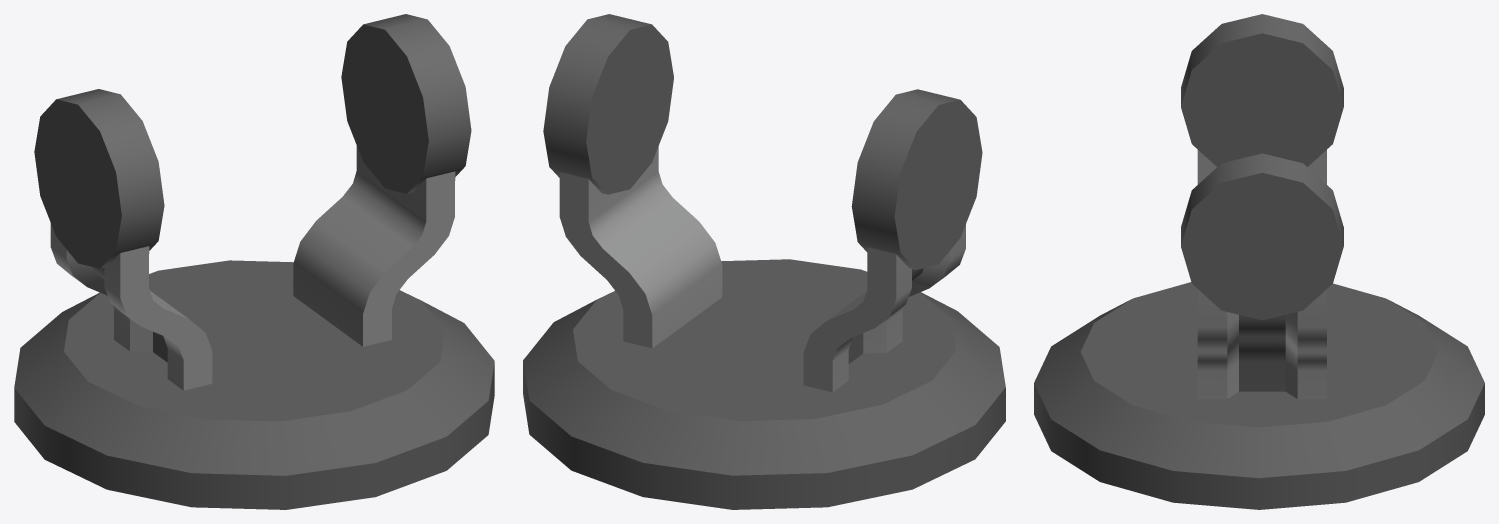
The model's file is Armchair_013.fbx.
3 views of the same model, side by side, from view 1: azimuth 30°, elevation 25°; view 2: azimuth 150°, elevation 25°; view 3: azimuth 270°, elevation 25° (orthographic). The views are drawn at different scales.
Parts seen in each view (by area): view 1: Armchair_013; view 2: Armchair_013; view 3: Armchair_013.
Part boxes in pixels (x1,y1,x2,y2): Armchair_013: (14,14,494,509); Armchair_013: (523,14,1005,509); Armchair_013: (1034,14,1484,509).
Bounding box in the file's own units: 35.02 × 35.01 × 27.52.
